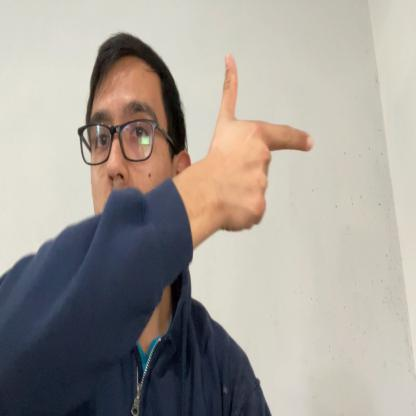G: (212, 53, 314, 233)
